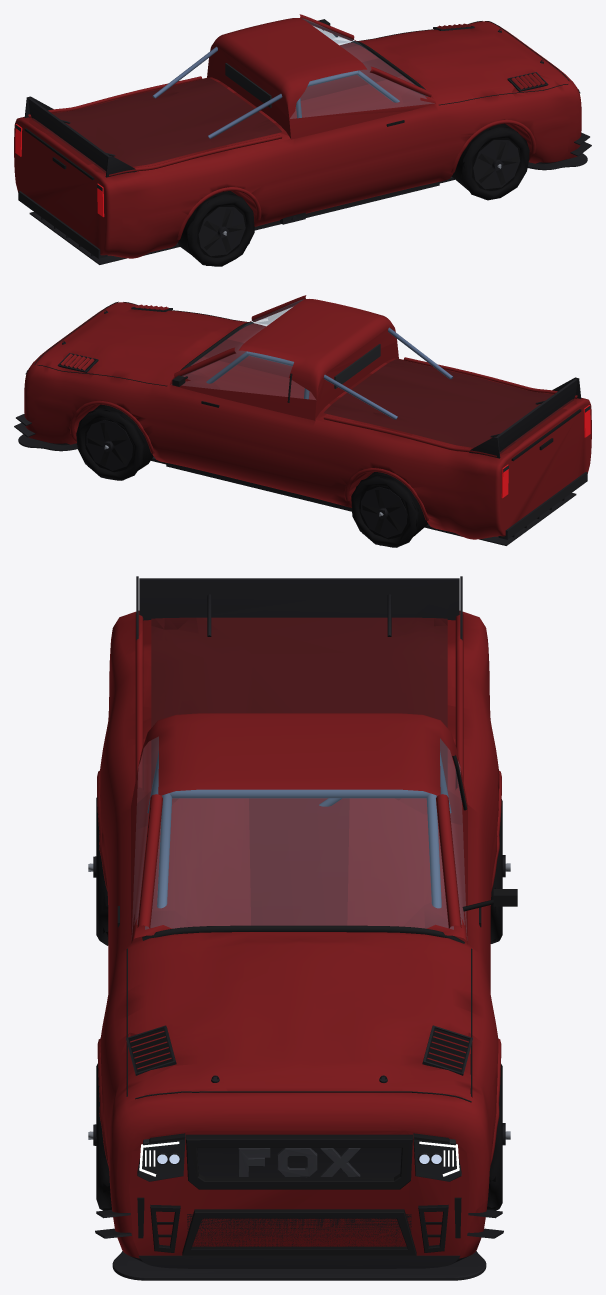
Rendered from truck_race_lod1.glb.
3 renders of one model, top to bottom at view 1: azimuth 30°, elevation 25°; view 2: azimuth 150°, elevation 25°; view 3: azimuth 270°, elevation 25°, orthographic. The views are drawn at different scales.
Parts seen in each view (by area): view 1: Body, Tire_FR, Tire_RR; view 2: Body, Tire_FL, Tire_RL; view 3: Body, Tire_FL, Tire_FR, Tire_RR, Tire_RL.
Boxes of the visible parts, x1,y1,x2,y2 form: Body: (14, 14, 591, 264); Tire_FR: (451, 123, 529, 200); Tire_RR: (178, 191, 254, 266); Body: (14, 295, 591, 545); Tire_FL: (76, 404, 153, 480); Tire_RL: (351, 472, 427, 547); Body: (95, 576, 517, 1280); Tire_FL: (487, 1064, 510, 1210); Tire_FR: (88, 1063, 111, 1210); Tire_RR: (88, 797, 108, 945); Tire_RL: (490, 799, 510, 943).
Size of the model in its own units: 5.64 by 1.7 by 2.15.
